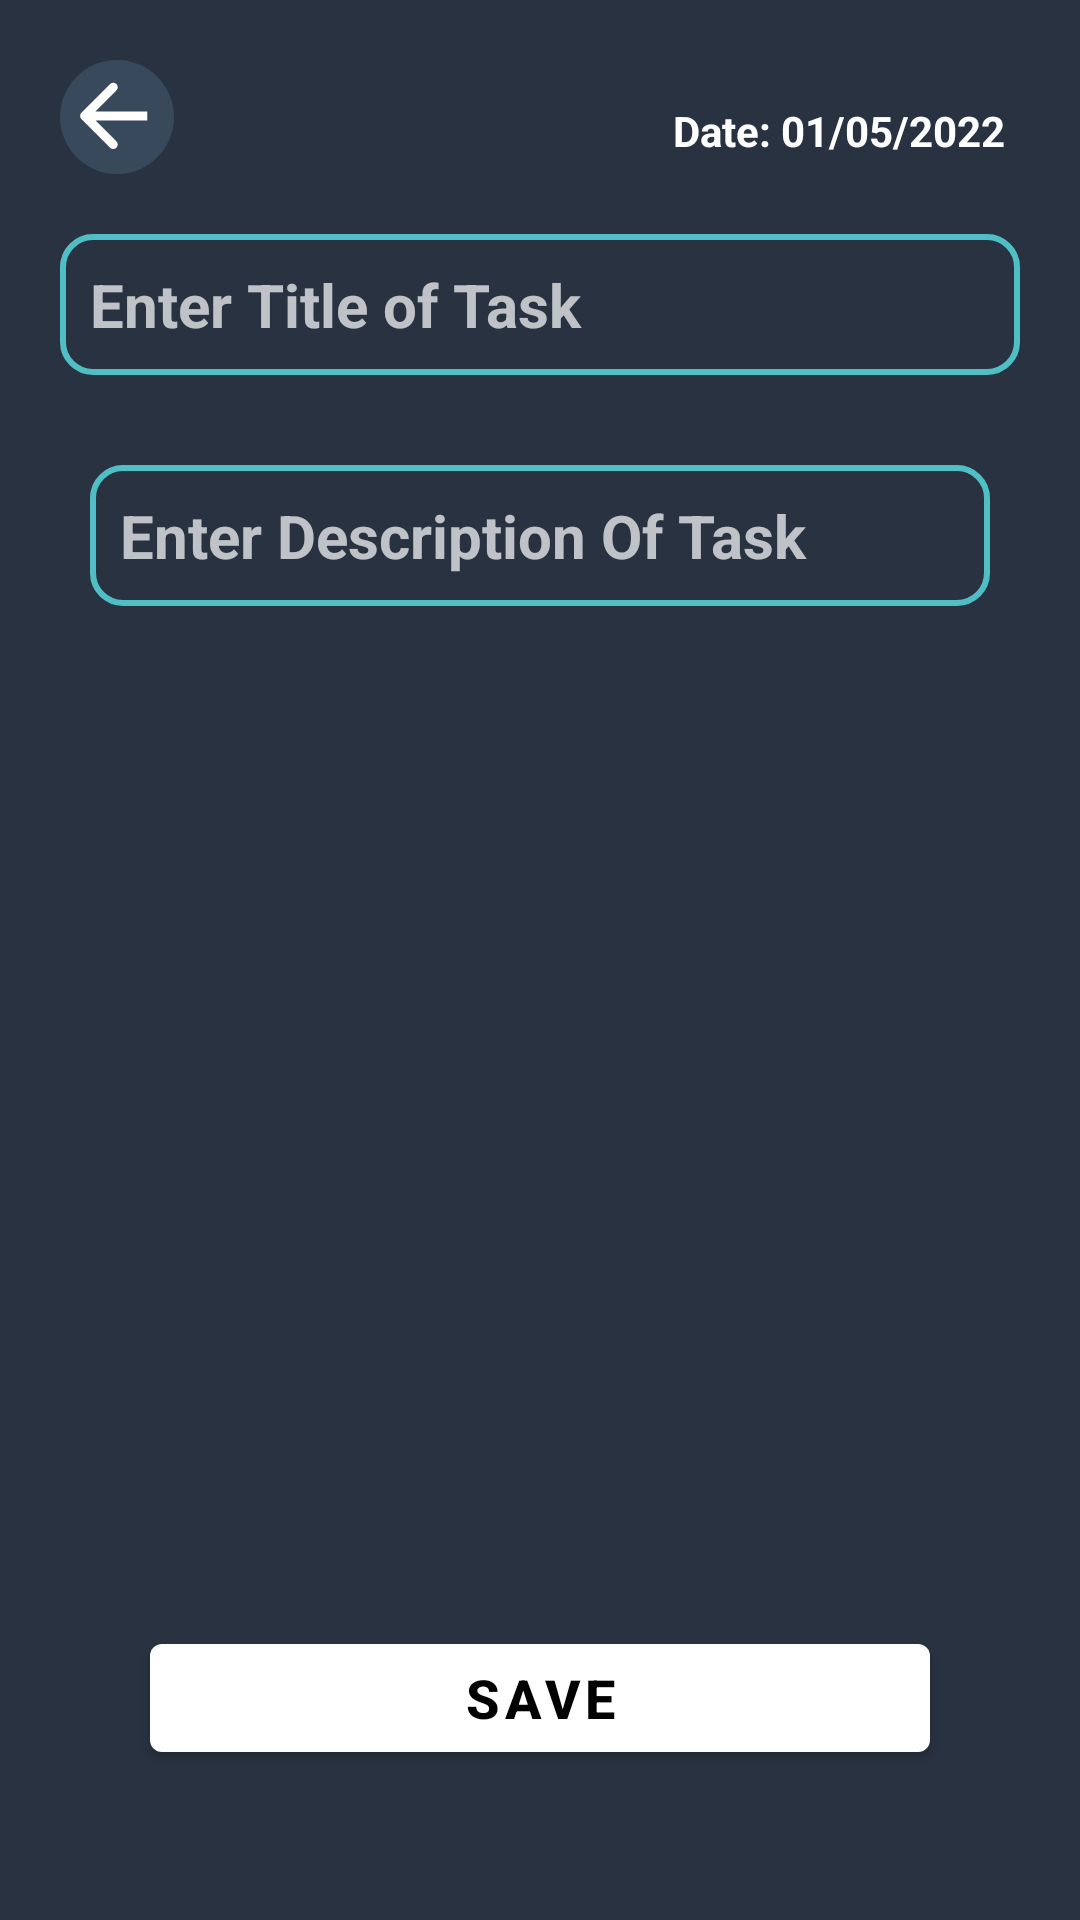

Icon click points for this 1080*1920 phone screenshot, format (x=x, y=y):
back: (x=117, y=117)
